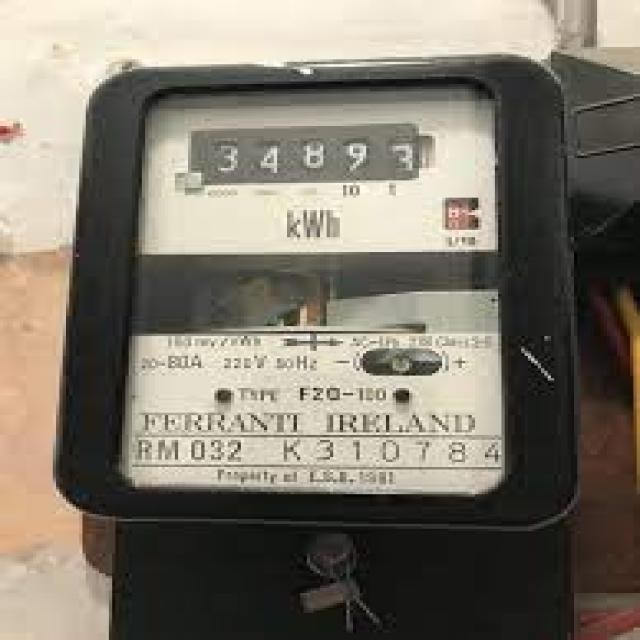3: (214, 140, 244, 178)
4: (257, 142, 292, 179)
8: (301, 138, 332, 178)
9: (348, 138, 372, 176)
analog meter: (200, 132, 438, 181)
